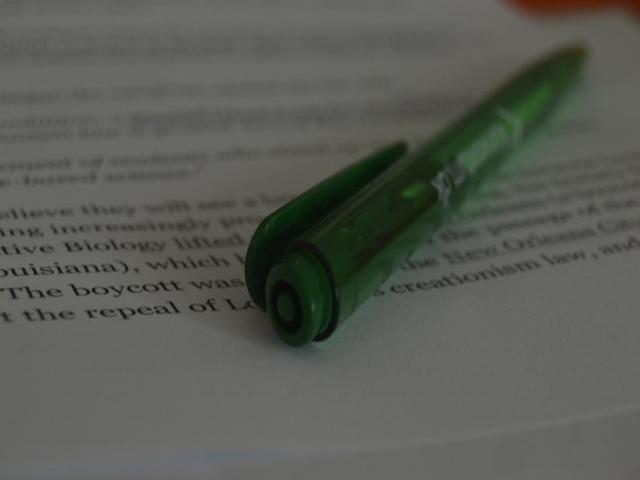PEN: (234, 32, 603, 350)
